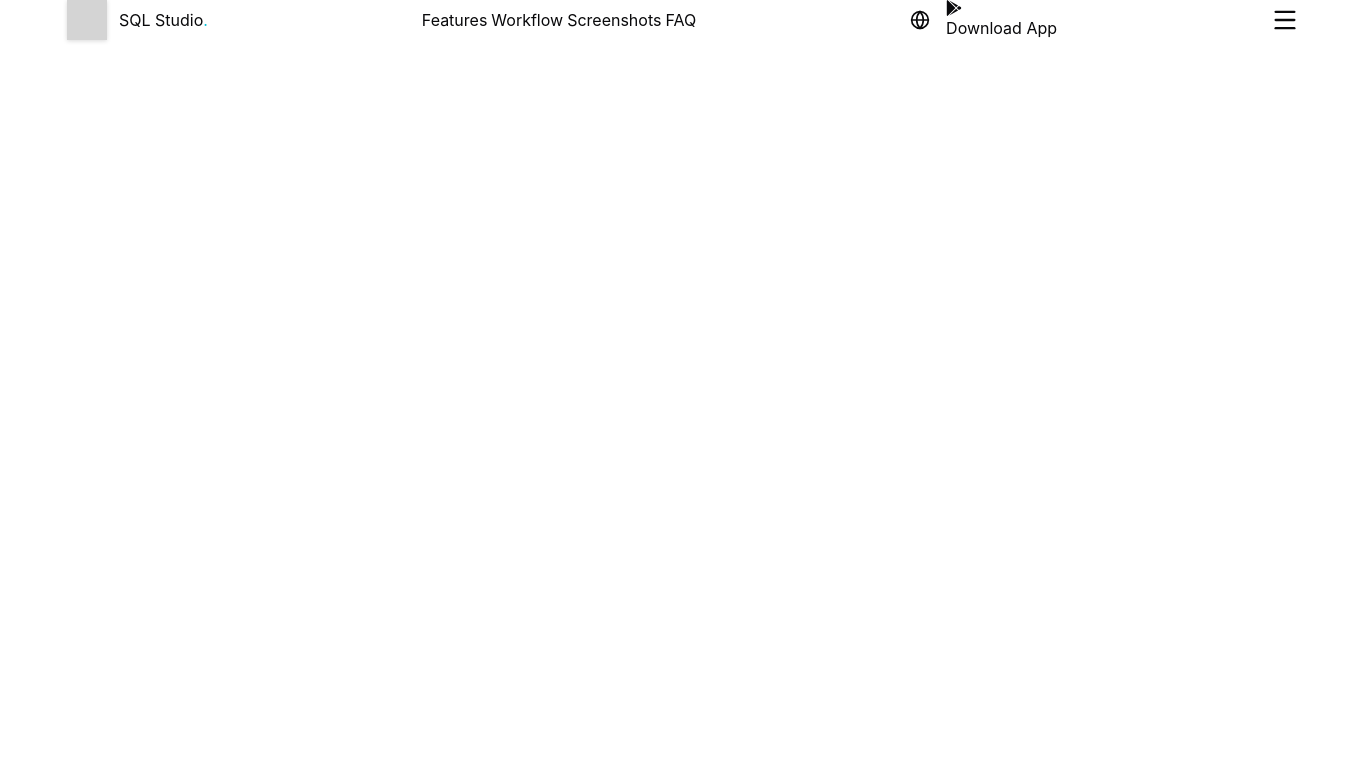
Header › opens the mobile menu as a dialog and closes it on link click
Click the button named "Open menu".
click(1285, 20)  # box [1271,6,1299,34]
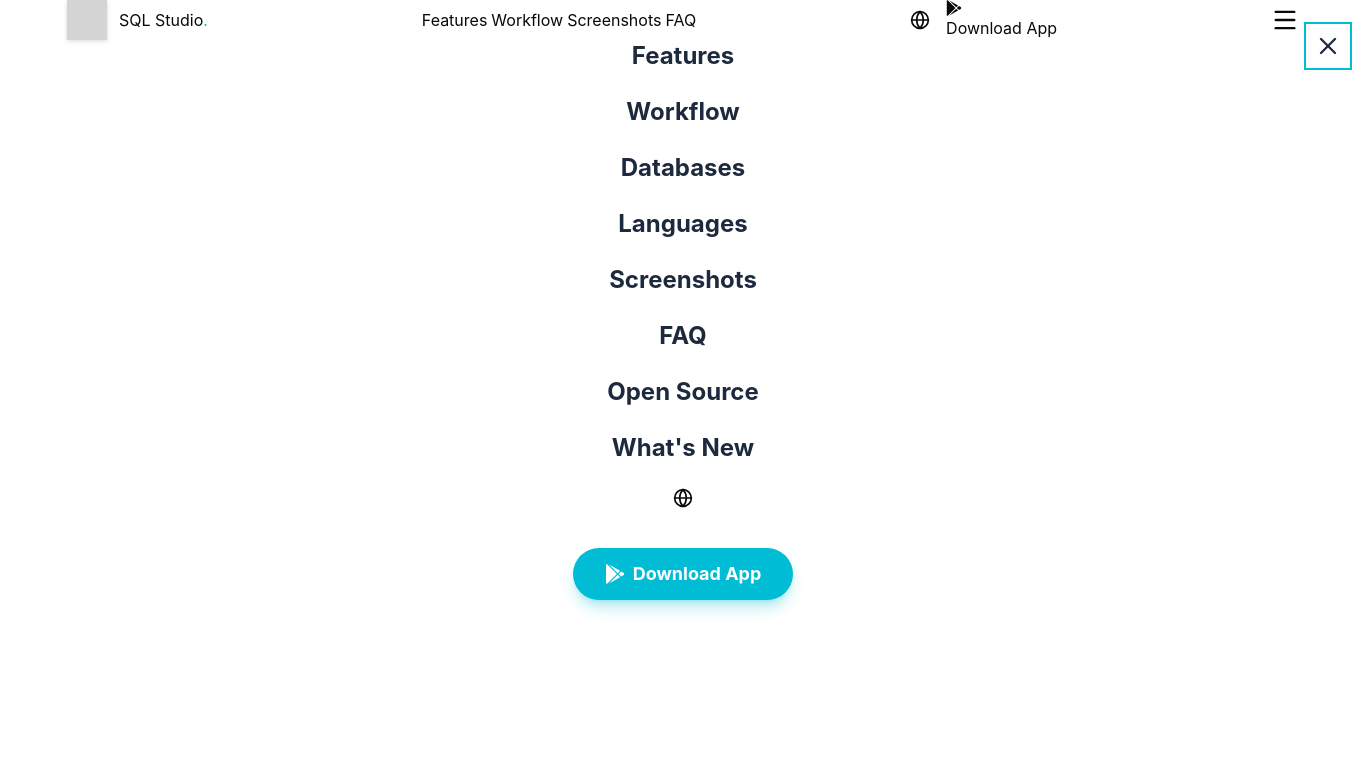
Expected: the dialog is shown
Expected: the button named "Close menu" is shown, [1306,24,1350,68]
Click the link "FAQ" below "Languages".
click(683, 336)  # box [659,320,707,352]
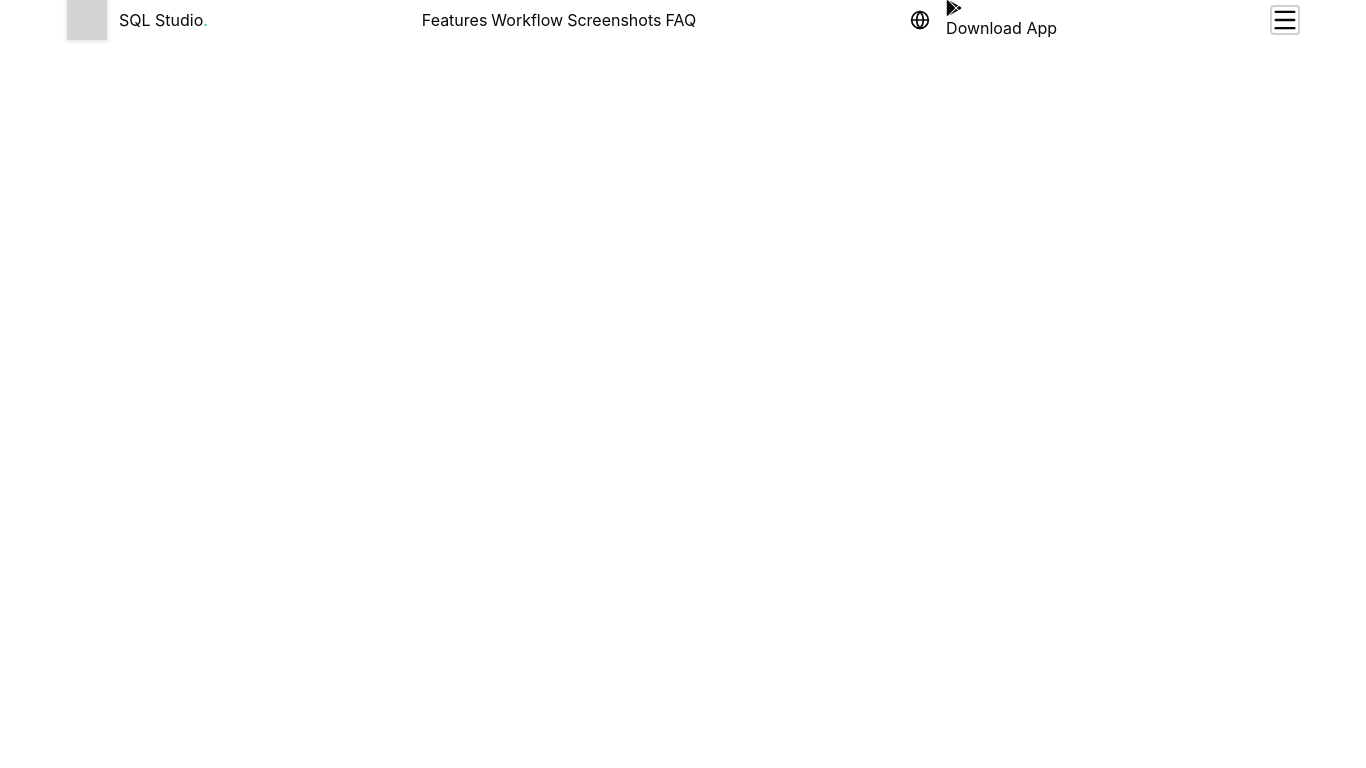
Expected: the dialog is gone
